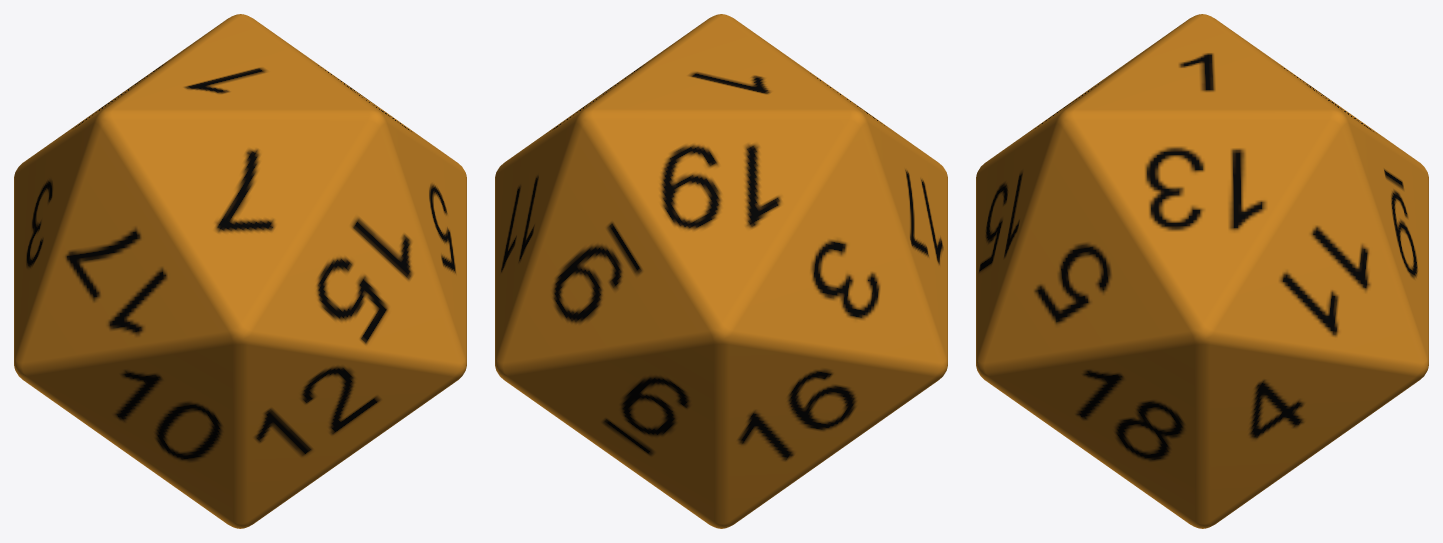
The picture shows the model from 3 angles, left to right: view 1: azimuth 30°, elevation 25°; view 2: azimuth 150°, elevation 25°; view 3: azimuth 270°, elevation 25°; orthographic projection.
Visible parts, largest first — view 1: node_id6; view 2: node_id6; view 3: node_id6.
Part boxes in pixels (x1,y1,x2,y2): node_id6: (14, 14, 466, 528); node_id6: (495, 14, 947, 528); node_id6: (976, 14, 1428, 528).
Bounding box in the file's own units: 0.512 × 0.422 × 0.4482.
1 material, 1 textured.
